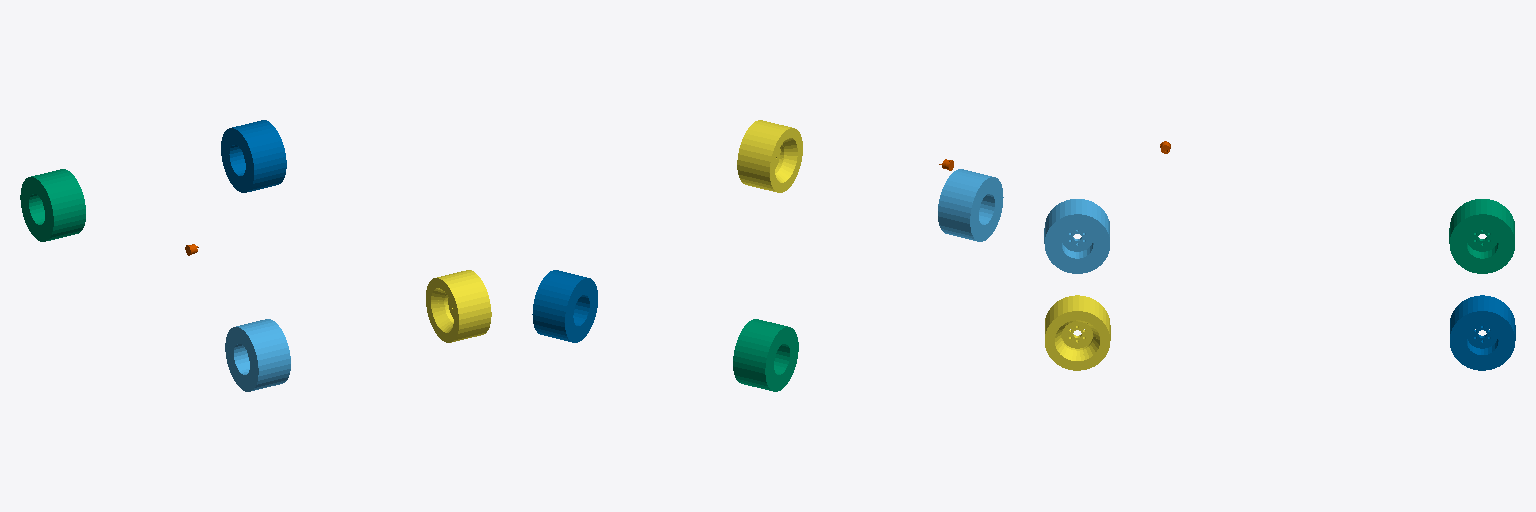
URDF robot description (viechle):
    <robot name="viechle">
    
      <link name="base_link">      
        <inertial>
          <origin xyz="-3.53959541077295E-06 0.0438384138438208 0.00224778740440818" rpy="0 0 0" />
          <mass value="1.17441366487799" />
          <inertia 
          ixx="0.00396985141151892" 
          ixy="-2.32032333599352E-18" 
          ixz="-1.37733198282129E-19" 
          iyy="0.0026498609198602" 
          iyz="1.9580916062777E-21" 
          izz="0.0026498609198602" />
        </inertial>
        
        <visual>
          <origin rpy="0 0 0" xyz="0 0 0"/>
          <geometry>
            <!--<box size="" />-->
            <mesh filename="package://viechle_urdf/meshes/base_link.STL" />
          </geometry>
          <meterial name="white">
            <color rgba="1 1 1 1" />
          </meterial>
        </visual>
        
        <collision>
          <origin xyz="0 0 0" rpy="0 0 0" />
          <geometry>
            <mesh filename="package://viechle_urdf/meshes/base_link.STL" />
          </geometry>
        </collision>     
      </link>


      <link name="wheel_1">
        <inertial>
          <origin xyz="-0.26 -0.46 -0.3"
        rpy="0 0 0" />
          <mass value="1.17441366487799" />
          <inertia 
          ixx="0.00396985141151892" 
          ixy="-2.32032333599352E-18" 
          ixz="-1.37733198282129E-19" 
          iyy="0.0026498609198602" 
          iyz="1.9580916062777E-21" 
          izz="0.0026498609198602" />
        </inertial>
        
        <visual>
          <origin rpy="0 0 0" xyz="0 0 0" />
          <geometry>
            <mesh filename="package://viechle_urdf/meshes/right_front_wheel.STL" />
          </geometry>
          <meterial name="black">
            <color rgba="0 0 0 1" />
          </meterial>
        </visual>
        
        <collision>
          <origin xyz="0 0 0" rpy="0 0 0" />
          <geometry>
            <mesh filename="package://viechle_urdf/meshes/right_front_wheel.STL" />
          </geometry>
        </collision>
      </link>
         
      <link name="wheel_2">
        <inertial>
          <origin xyz="-0.26 0.46 -0.3"
        rpy="0 0 0" />
          <mass value="1.17441366487799" />
          <inertia 
          ixx="0.00396985141151892" 
          ixy="-2.32032333599352E-18" 
          ixz="-1.37733198282129E-19" 
          iyy="0.0026498609198602" 
          iyz="1.9580916062777E-21" 
          izz="0.0026498609198602" />
        </inertial>
        
        <visual>
          <origin rpy="0 0 0" xyz="0 0 0" />
          <geometry>
            <mesh filename="package://viechle_urdf/meshes/right_back_wheel.STL" />
          </geometry>
          <meterial name="black">
          </meterial>
        </visual>
        
        <collision>
          <origin xyz="0 0 0" rpy="0 0 0" />
          <geometry>
            <mesh filename="package://viechle_urdf/meshes/right_back_wheel.STL" />
          </geometry>
        </collision>
      </link>
        
      <link name="wheel_3">
        <inertial>
          <origin xyz="0.26 -0.46 -0.3" rpy="0 0 0"/>
          <mass value="1.17441366487799" />
          <inertia         
          ixx="0.00396985141151892" 
          ixy="-2.32032333599352E-18" 
          ixz="-1.37733198282129E-19" 
          iyy="0.0026498609198602" 
          iyz="1.9580916062777E-21" 
          izz="0.0026498609198602" />
        </inertial>
        
        <visual>
          <origin rpy="0 0 0" xyz="0 0 0" />
          <geometry>
            <mesh filename="package://viechle_urdf/meshes/left_front_wheel.STL" />
          </geometry>
          <meterial name="black">
          </meterial>
        </visual>
        
        <collision>
          <origin xyz="0 0 0" rpy="0 0 0" />
          <geometry>
            <mesh filename="package://viechle_urdf/meshes/left_front_wheel.STL" />
          </geometry>
        </collision>  
      </link>
      
      <link name="wheel_4">
        <inertial>
          <origin xyz="0.26 0.46 -0.3"
        rpy="0 0 0"/>
          <mass value="1.17441366487799" />
          <inertia 
          ixx="0.00396985141151892" 
          ixy="-2.32032333599352E-18" 
          ixz="-1.37733198282129E-19" 
          iyy="0.0026498609198602" 
          iyz="1.9580916062777E-21" 
          izz="0.0026498609198602" />
        </inertial>
        
        <visual>
          <origin rpy="0 0 0" xyz="0 0 0" />
          <geometry>
            <mesh filename="package://viechle_urdf/meshes/left_back_wheel.STL" />
          </geometry>
          <meterial name="black">
          </meterial>
        </visual>
        
        <collision>
          <origin xyz="0 0 0" rpy="0 0 0" />
          <geometry>
            <mesh filename="package://viechle_urdf/meshes/left_back_wheel.STL" />
          </geometry>
        </collision>    
      </link>
      
      <!--right 1-->
      <link name="laser_1">
        <inertial>
          <origin xyz="-0.317 -0.260 -0.105" rpy="0 0 0" />
          <mass value="0.00693911277597958" />
          <inertia 
          ixx="4.24990177842731E-07"
          ixy="9.04749990937182E-09"
          ixz="-5.20832174442818E-10"
          iyy="4.19901677616113E-07"
          iyz="-5.66807478714134E-10"
          izz="4.24187010973064E-07" />
        </inertial>
        <visual>
          <origin xyz="0 0 0" rpy="0 0 0" />
          <geometry>
            <mesh filename="package://viechle_urdf/meshes/sensor.STL" />
          </geometry>
          <meterial name="black">
            <color rgba="0 0 0 1" />
          </meterial>
        </visual>
        <collision>
          <origin xyz="0 0 0" rpy="0 0 0" />
          <geometry>
            <mesh filename="package://viechle_urdf/meshes/sensor.STL" />
          </geometry>
        </collision>
      </link>  
      <!--right 2-->
      <link name="laser_2">
        <inertial>
          <origin xyz="-0.317 0.550 -0.105" rpy="0 0 0" />
          <mass value="0.00693911277597958" />
          <inertia 
          ixx="4.24990177842731E-07"
          ixy="9.04749990937182E-09"
          ixz="-5.20832174442818E-10"
          iyy="4.19901677616113E-07"
          iyz="-5.66807478714134E-10"
          izz="4.24187010973064E-07" />
        </inertial>
        <visual>
          <origin xyz="0 0 0" rpy="0 0 0" />
          <geometry>
            <mesh filename="package://viechle_urdf/meshes/sensor.STL" />
          </geometry>
          <meterial name="black">
            <color rgba="0 0 0 1" />
          </meterial>
        </visual>
        <collision>
          <origin xyz="0 0 0" rpy="0 0 0" />
          <geometry>
            <mesh filename="package://viechle_urdf/meshes/sensor.STL" />
          </geometry>
        </collision>
      </link>
      <!--right back-->
      <link name="laser_3">  
        <inertial>
          <origin xyz="-0.175 0.742 -0.105" rpy="0 0 0" />
          <mass value="0.00693911277597958" />
          <inertia 
          ixx="4.24990177842731E-07"
          ixy="9.04749990937182E-09"
          ixz="-5.20832174442818E-10"
          iyy="4.19901677616113E-07"
          iyz="-5.66807478714134E-10"
          izz="4.24187010973064E-07" />
        </inertial>
        <visual>
          <origin xyz="0 0 0" rpy="0 0 0" />
          <geometry>
            <mesh filename="package://viechle_urdf/meshes/sensor.STL" />
          </geometry>
          <meterial name="black">
            <color rgba="0 0 0 1" />
          </meterial>
        </visual>
        <collision>
          <origin xyz="0 0 0" rpy="0 0 0" />
          <geometry>
            <mesh filename="package://viechle_urdf/meshes/sensor.STL" />
          </geometry>
        </collision>
      </link>
      <!--left back-->
      <link name="laser_4">
        <inertial>
          <origin xyz="0.175 0.742 -0.105" rpy="0 0 0" />
          <mass value="0.00693911277597958" />
          <inertia 
          ixx="4.24990177842731E-07"
          ixy="9.04749990937182E-09"
          ixz="-5.20832174442818E-10"
          iyy="4.19901677616113E-07"
          iyz="-5.66807478714134E-10"
          izz="4.24187010973064E-07" />
        </inertial>
        <visual>
          <origin xyz="0 0 0" rpy="0 0 0" />
          <geometry>
            <mesh filename="package://viechle_urdf/meshes/sensor.STL" />
          </geometry>
          <meterial name="black">
            <color rgba="0 0 0 1" />
          </meterial>
        </visual>
        <collision>
          <origin xyz="0 0 0" rpy="0 0 0" />
          <geometry>
            <mesh filename="package://viechle_urdf/meshes/sensor.STL" />
          </geometry>
        </collision>
      </link>
      <!--left 1-->
      <link name="laser_5">
        <inertial>
          <origin xyz="0.317 -0.260 -0.105" rpy="0 0 0" />
          <mass value="0.00693911277597958" />
          <inertia 
          ixx="4.24990177842731E-07"
          ixy="9.04749990937182E-09"
          ixz="-5.20832174442818E-10"
          iyy="4.19901677616113E-07"
          iyz="-5.66807478714134E-10"
          izz="4.24187010973064E-07" />
        </inertial>
        <visual>
          <origin xyz="0 0 0" rpy="0 0 0" />
          <geometry>
            <mesh filename="package://viechle_urdf/meshes/sensor.STL" />
          </geometry>
          <meterial name="black">
            <color rgba="0 0 0 1" />
          </meterial>
        </visual>
        <collision>
          <origin xyz="0 0 0" rpy="0 0 0" />
          <geometry>
            <mesh filename="package://viechle_urdf/meshes/sensor.STL" />
          </geometry>
        </collision>
      </link>
      <!--left 2-->
      <link name="laser_6">
        <inertial>
          <origin xyz="0.317 0.550 -0.105" rpy="0 0 0" />
          <mass value="0.00693911277597958" />
          <inertia 
          ixx="4.24990177842731E-07"
          ixy="9.04749990937182E-09"
          ixz="-5.20832174442818E-10"
          iyy="4.19901677616113E-07"
          iyz="-5.66807478714134E-10"
          izz="4.24187010973064E-07" />
        </inertial>
        <visual>
          <origin xyz="0 0 0" rpy="0 0 0" />
          <geometry>
            <mesh filename="package://viechle_urdf/meshes/sensor.STL" />
          </geometry>
          <meterial name="black">
            <color rgba="0 0 0 1" />
          </meterial>
        </visual>
        <collision>
          <origin xyz="0 0 0" rpy="0 0 0" />
          <geometry>
            <mesh filename="package://viechle_urdf/meshes/sensor.STL" />
          </geometry>
        </collision>  
      </link>
      
      <sensor name="laser_sensor_1" update_rate="20">
        <parent link="laser_1"/>
        <origin xyz="-0.317 -0.260 -0.105" rpy="0 0 0"/>
        <ray>
          <horizontal samples="100" resolution="1" min_angle="-1.5708" max_angle="1.5708"/>
          <vertical samples="1" resolution="1" min_angle="0" max_angle="0"/>
        </ray>
      </sensor>
      
      <sensor name="laser_sensor_2" update_rate="20">
        <parent link="laser_2"/>
        <origin xyz="-0.317 0.550 -0.105" rpy="0 0 0"/>
        <ray>
          <horizontal samples="100" resolution="1" min_angle="-1.5708" max_angle="1.5708"/>
          <vertical samples="1" resolution="1" min_angle="0" max_angle="0"/>
        </ray>
      </sensor>

      <sensor name="laser_sensor_3" update_rate="20">
        <parent link="laser_3"/>
        <origin xyz="-0.175 0.742 -0.105" rpy="0 0 0"/>
        <ray>
          <horizontal samples="100" resolution="1" min_angle="-1.5708" max_angle="1.5708"/>
          <vertical samples="1" resolution="1" min_angle="0" max_angle="0"/>
        </ray>
      </sensor>
      
      <sensor name="laser_sensor_4" update_rate="20">
        <parent link="laser_4"/>
        <origin xyz="0.175 0.742 -0.105" rpy="0 0 0"/>
        <ray>
          <horizontal samples="100" resolution="1" min_angle="-1.5708" max_angle="1.5708"/>
          <vertical samples="1" resolution="1" min_angle="0" max_angle="0"/>
        </ray>
      </sensor>
      
      <sensor name="laser_sensor_5" update_rate="20">
        <parent link="laser_5"/>
        <origin xyz="0.317 -0.260 -0.105" rpy="0 0 0"/>
        <ray>
          <horizontal samples="100" resolution="1" min_angle="-1.5708" max_angle="1.5708"/>
          <vertical samples="1" resolution="1" min_angle="0" max_angle="0"/>
        </ray>
      </sensor>

      <sensor name="laser_sensor_6" update_rate="20">
        <parent link="laser_6"/>
        <origin xyz="0.317 0.550 -0.105" rpy="0 0 0"/>
        <ray>
          <horizontal samples="100" resolution="1" min_angle="-1.5708" max_angle="1.5708"/>
          <vertical samples="1" resolution="1" min_angle="0" max_angle="0"/>
        </ray>
      </sensor>
      
      
 <!--joint-->     
      <joint name="joint_base_wheel1" type="fixed">  
        <parent link="base_link"/>  
        <child link="wheel_1"/>  
      </joint>  
      
      <joint name="joint_base_wheel2" type="fixed">  
        <parent link="base_link"/>  
        <child link="wheel_2"/>  
      </joint>  

      <joint name="joint_base_wheel3" type="fixed">  
        <parent link="base_link"/>  
        <child link="wheel_3"/>  
      </joint>  
      
      <joint name="joint_base_wheel4" type="fixed">  
        <parent link="base_link"/>  
        <child link="wheel_4"/>  
      </joint>
      
      
 <!-- laser -->
      <joint name="joint_base_laser1" type="fixed">  
        <parent link="base_link"/>  
        <child link="laser_1"/>  
      </joint>
      
      <joint name="joint_base_laser2" type="fixed">  
        <parent link="base_link"/>  
        <child link="laser_2"/>  
      </joint>  
          
      <joint name="joint_base_laser3" type="fixed">  
        <parent link="base_link"/>  
        <child link="laser_3"/>  
      </joint>  
      
      <joint name="joint_base_laser4" type="fixed">  
        <parent link="base_link"/>  
        <child link="laser_4"/>  
      </joint>  
            
      <joint name="joint_base_laser5" type="fixed">  
        <parent link="base_link"/>  
        <child link="laser_5"/>  
      </joint>
      
      <joint name="joint_base_laser6" type="fixed">  
        <parent link="base_link"/>  
        <child link="laser_6"/>  
      </joint>
        
    </robot>  

--- Facts derived from the render (not from the file) ---
Views: 3 orthographic renders of the robot side by side, from view 1: azimuth 30°, elevation 25°; view 2: azimuth 150°, elevation 25°; view 3: azimuth 270°, elevation 25°.
Model viechle with 11 links and 10 joints (10 fixed), rooted at base_link, posed all joints at 0.
Links seen in each view (by area): view 1: wheel_2, wheel_3, wheel_1, wheel_4; view 2: wheel_2, wheel_3, wheel_1, wheel_4; view 3: wheel_1, wheel_2, wheel_3, wheel_4.
Boxes of the visible links, box(x1,y1,x2,y2) form: wheel_2: box(20, 169, 85, 241); wheel_3: box(426, 270, 491, 342); wheel_1: box(225, 319, 290, 391); wheel_4: box(221, 120, 286, 192); wheel_2: box(733, 319, 798, 391); wheel_3: box(737, 120, 802, 192); wheel_1: box(938, 169, 1003, 241); wheel_4: box(532, 270, 597, 342); wheel_1: box(1044, 199, 1109, 273); wheel_2: box(1449, 199, 1514, 273); wheel_3: box(1045, 295, 1110, 370); wheel_4: box(1450, 295, 1515, 370).
Size in the robot's own frame: 0.6282 by 1.07 by 0.2824 metres.
10 mesh visuals loaded from 6 distinct referenced files (5 binary STL); not drawn: 1 (reference not matched to a file when rendering).
